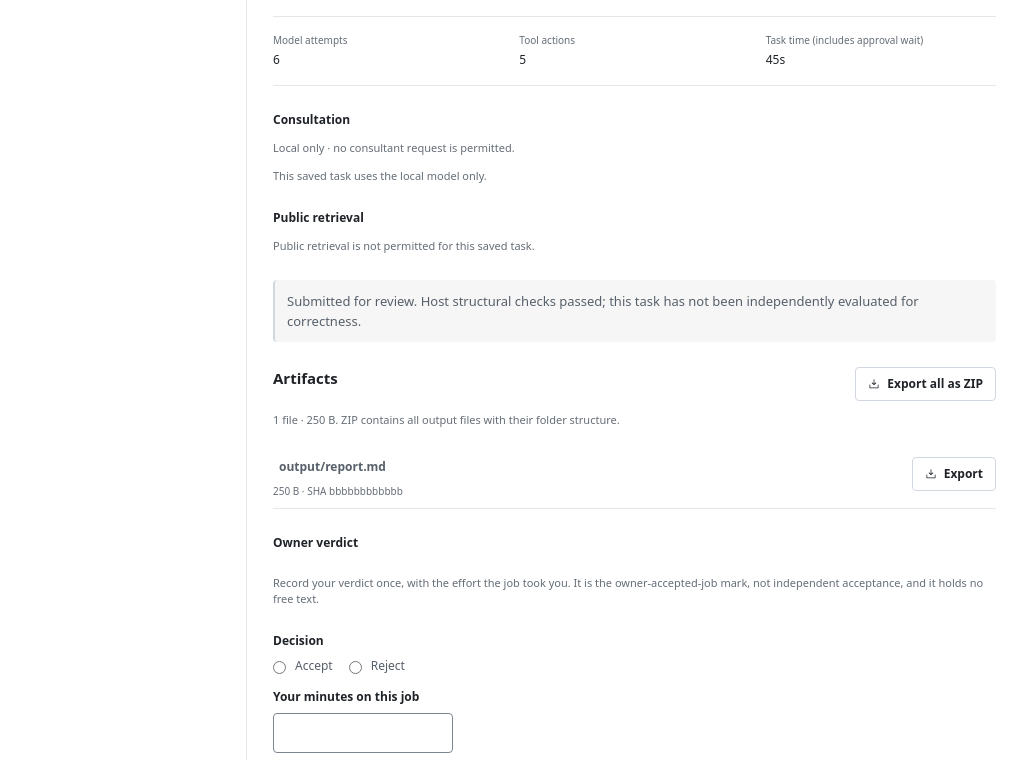
general task workspace › reports bundle export errors without displaying host details or a success message
(page scrolled)
Click the button "Export all as ZIP" at (926, 384), box [855, 367, 996, 401]
(page scrolled)
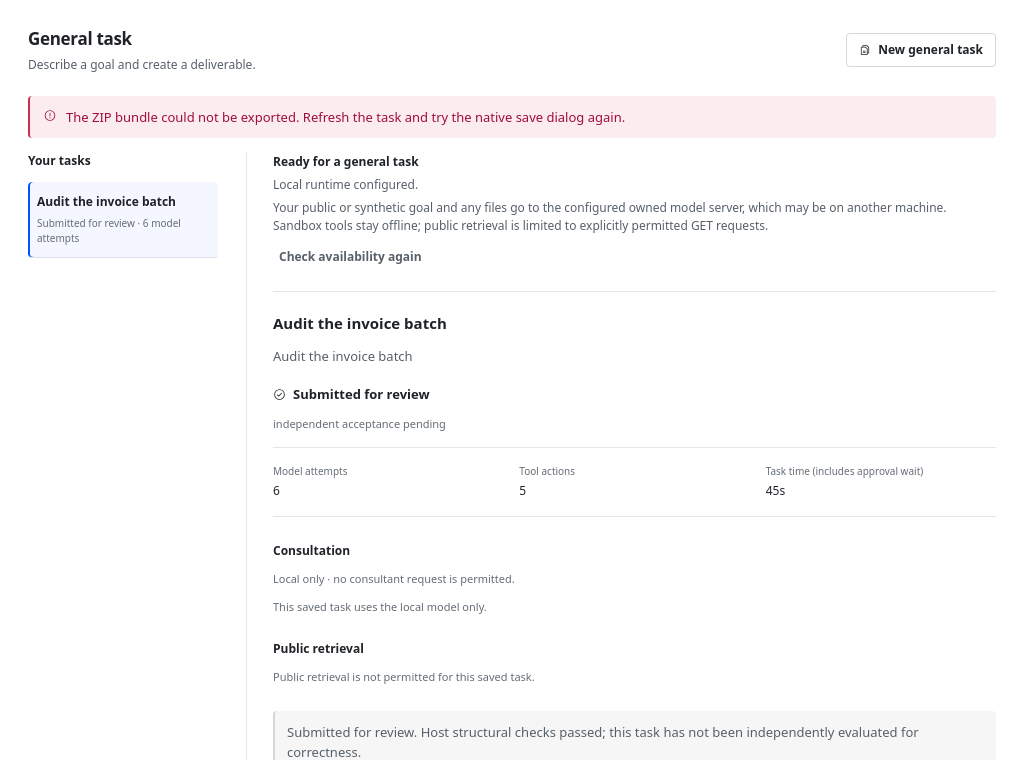
Expected: the 1st message shows "The ZIP bundle could not be exported", [66, 108, 625, 126]
